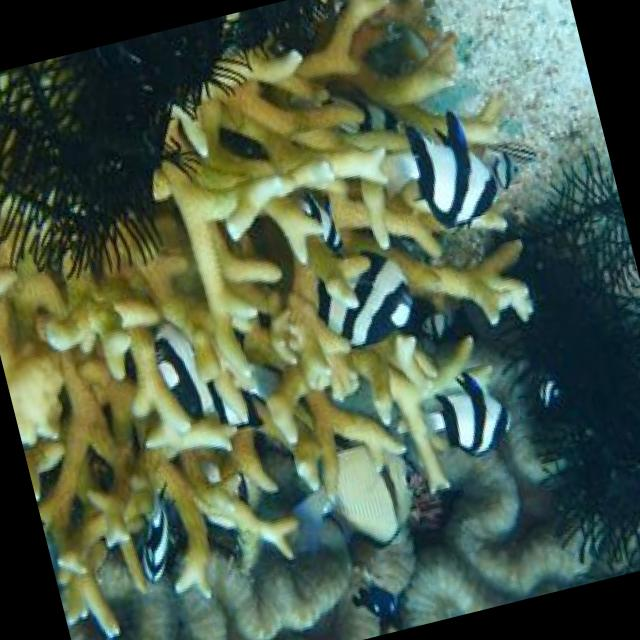ThreeStripedDamselfish: (379, 107, 497, 228), (422, 370, 505, 456)
